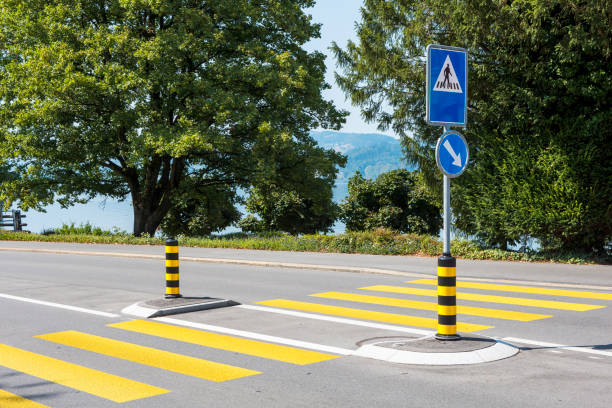yaya_gecidi_levha: (427, 40, 472, 104)
